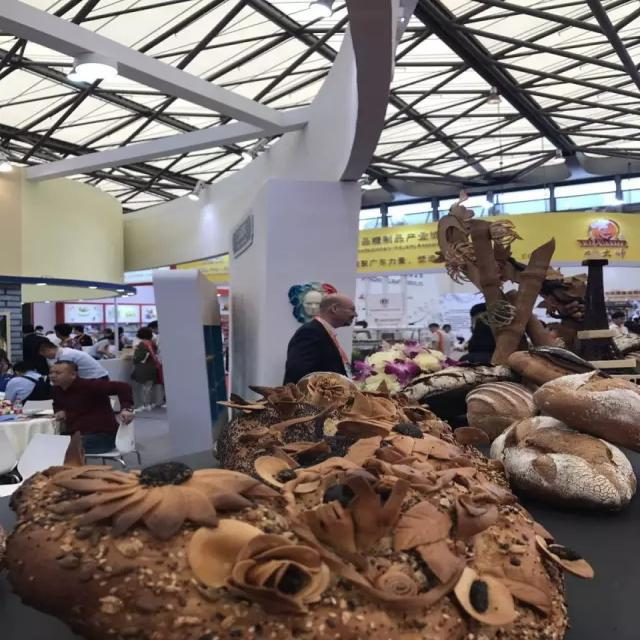body: (45, 359, 136, 456), (281, 291, 359, 387), (441, 300, 529, 372), (34, 338, 112, 382), (127, 324, 165, 414), (4, 359, 55, 406), (21, 324, 52, 376), (0, 320, 16, 392), (96, 326, 134, 350), (52, 323, 83, 351), (86, 334, 117, 360), (296, 287, 321, 315), (607, 312, 630, 336), (72, 324, 95, 347), (428, 323, 444, 352), (440, 324, 455, 346), (32, 325, 55, 338), (147, 319, 159, 335)
